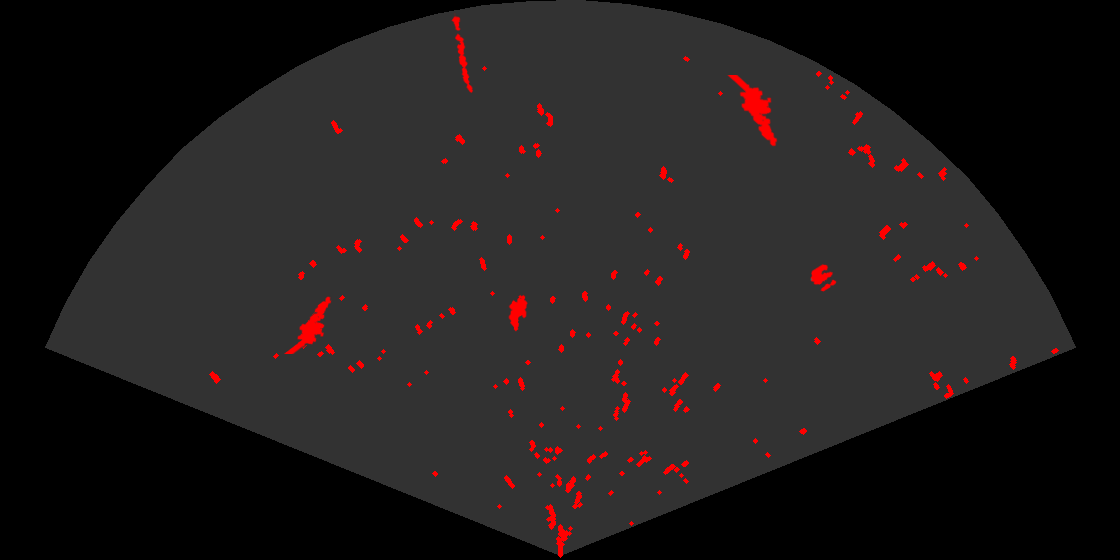AUV: (507, 293, 529, 333)
ball: (809, 263, 838, 293)
chain: (450, 13, 474, 95)
frogman: (726, 75, 779, 148), (284, 295, 333, 354)
